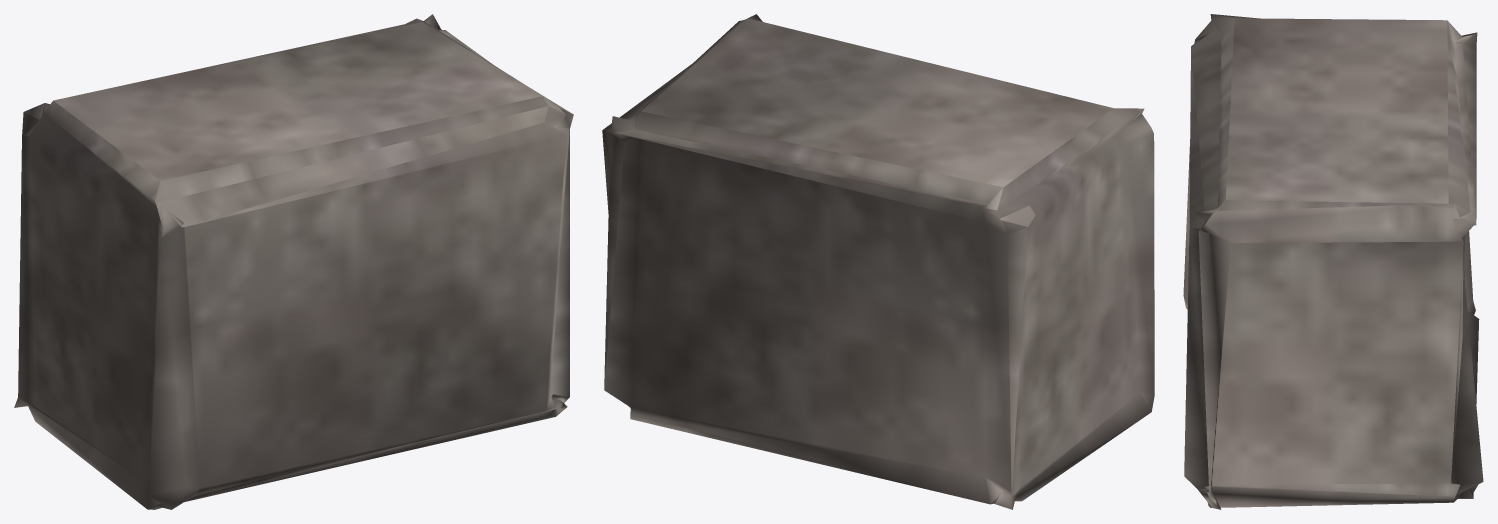
Rendered from PAV-BLQ-005_lod1.glb.
The picture shows the model from 3 angles, left to right: view 1: azimuth 30°, elevation 25°; view 2: azimuth 150°, elevation 25°; view 3: azimuth 270°, elevation 25°; orthographic projection. The views are drawn at different scales.
Parts seen in each view (by area): view 1: PAV-BLQ-005_peca; view 2: PAV-BLQ-005_peca; view 3: PAV-BLQ-005_peca.
Part boxes in pixels (<box>): PAV-BLQ-005_peca: <box>14,14,573,509</box>; PAV-BLQ-005_peca: <box>602,14,1154,509</box>; PAV-BLQ-005_peca: <box>1183,14,1483,509</box>.
Size of the model in its own units: 0.1891 by 0.134 by 0.1178.
Materials: 1 (1 with a texture image).
